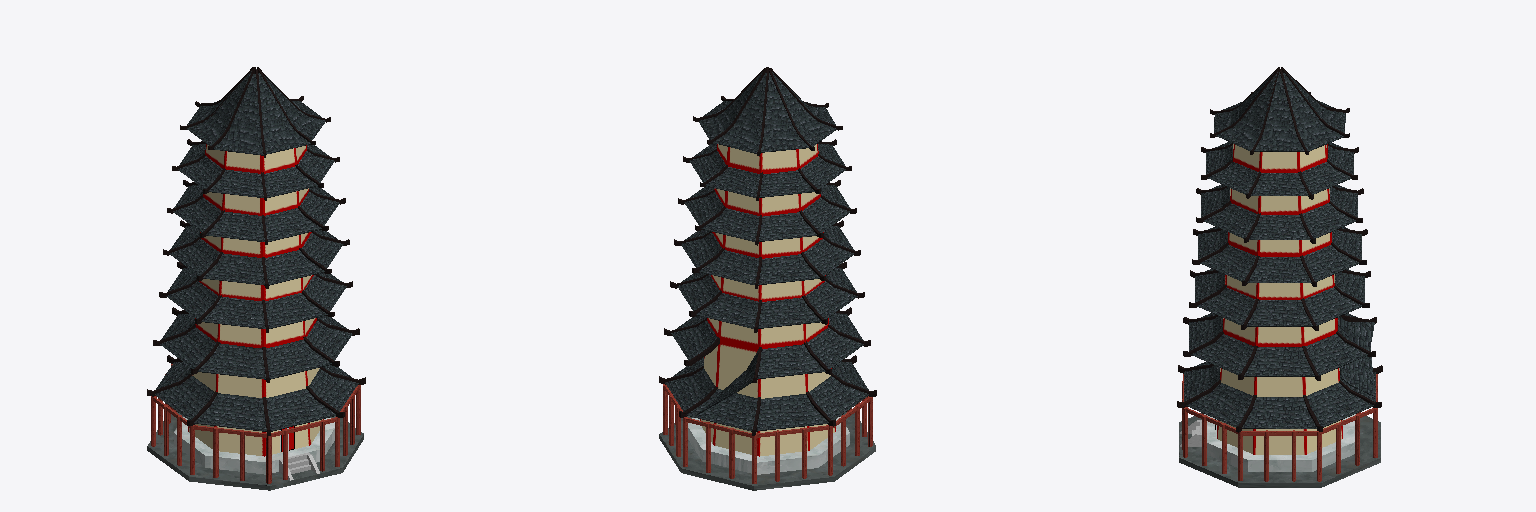
3 renders of one model, left to right at view 1: azimuth 30°, elevation 25°; view 2: azimuth 150°, elevation 25°; view 3: azimuth 270°, elevation 25°, orthographic.
Visible parts, largest first — view 1: Цилиндр_Цилиндр_towercolor, Цилиндр.001_Цилиндр.001_plate, Цилиндр.002_Цилиндр.002_whitePlate, Плоскость.007_Плоскость.009_roof, Плоскость.048_Плоскость.001_highRoff, Плоскость_Плоскость_roof, Плоскость.049_Плоскость.002_highRoff, Плоскость.015_Плоскость.017_roof, Плоскость.008_Плоскость.010_roof, Плоскость.023_Плоскость.025_roof, Плоскость.031_Плоскость.033_roof, Плоскость.006_Плоскость.008_roof (+19 smaller); view 2: Цилиндр_Цилиндр_towercolor, Цилиндр.001_Цилиндр.001_plate, Цилиндр.002_Цилиндр.002_whitePlate, Плоскость.005_Плоскость.007_roof, Плоскость.055_Плоскость.062_highRoff, Плоскость.053_Плоскость.061_highRoff, Плоскость.013_Плоскость.015_roof, Плоскость.004_Плоскость.006_roof, Плоскость.021_Плоскость.023_roof, Плоскость.006_Плоскость.008_roof, Плоскость.020_Плоскость.022_roof, Плоскость.029_Плоскость.031_roof (+19 smaller); view 3: Цилиндр_Цилиндр_towercolor, Цилиндр.001_Цилиндр.001_plate, Цилиндр.002_Цилиндр.002_whitePlate, Плоскость.002_Плоскость.004_roof, Плоскость.051_Плоскость.059_highRoff, Плоскость.010_Плоскость.012_roof, Плоскость.012_Плоскость.014_roof, Плоскость.003_Плоскость.005_roof, Плоскость.001_Плоскость.003_roof, Плоскость.052_Плоскость.060_highRoff, Плоскость.018_Плоскость.020_roof, Плоскость.050_Плоскость.058_highRoff (+23 smaller).
Boxes of the visible parts, <box> form: Цилиндр_Цилиндр_towercolor: <box>188,144,323,456</box>; Цилиндр.001_Цилиндр.001_plate: <box>147,412,363,490</box>; Цилиндр.002_Цилиндр.002_whitePlate: <box>174,417,334,474</box>; Плоскость.007_Плоскость.009_roof: <box>194,393,266,431</box>; Плоскость.048_Плоскость.001_highRoff: <box>213,74,263,155</box>; Плоскость_Плоскость_roof: <box>266,389,336,431</box>; Плоскость.049_Плоскость.002_highRoff: <box>258,73,310,154</box>; Плоскость.015_Плоскость.017_roof: <box>197,343,265,379</box>; Плоскость.008_Плоскость.010_roof: <box>266,339,331,379</box>; Плоскость.023_Плоскость.025_roof: <box>201,297,265,328</box>; Плоскость.031_Плоскость.033_roof: <box>203,253,264,285</box>; Плоскость.006_Плоскость.008_roof: <box>155,376,214,419</box>; Цилиндр_Цилиндр_towercolor: <box>700,144,835,456</box>; Цилиндр.001_Цилиндр.001_plate: <box>659,412,875,490</box>; Цилиндр.002_Цилиндр.002_whitePlate: <box>688,417,849,474</box>; Плоскость.005_Плоскость.007_roof: <box>757,394,828,431</box>; Плоскость.055_Плоскость.062_highRoff: <box>761,73,809,152</box>; Плоскость.053_Плоскость.061_highRoff: <box>713,73,766,153</box>; Плоскость.013_Плоскость.015_roof: <box>757,344,825,378</box>; Плоскость.004_Плоскость.006_roof: <box>686,389,757,431</box>; Плоскость.021_Плоскость.023_roof: <box>758,297,821,328</box>; Плоскость.006_Плоскость.008_roof: <box>809,376,868,419</box>; Плоскость.020_Плоскость.022_roof: <box>696,293,758,328</box>; Плоскость.029_Плоскость.031_roof: <box>758,254,819,284</box>; Цилиндр_Цилиндр_towercolor: <box>1217,144,1342,454</box>; Цилиндр.001_Цилиндр.001_plate: <box>1179,413,1380,487</box>; Цилиндр.002_Цилиндр.002_whitePlate: <box>1204,414,1355,471</box>; Плоскость.002_Плоскость.004_roof: <box>1242,397,1316,428</box>; Плоскость.051_Плоскость.059_highRoff: <box>1254,72,1304,151</box>; Плоскость.010_Плоскость.012_roof: <box>1244,347,1314,376</box>; Плоскость.012_Плоскость.014_roof: <box>1338,316,1375,396</box>; Плоскость.003_Плоскость.005_roof: <box>1307,383,1373,427</box>; Плоскость.001_Плоскость.003_roof: <box>1186,383,1252,426</box>; Плоскость.052_Плоскость.060_highRoff: <box>1283,73,1343,151</box>; Плоскость.018_Плоскость.020_roof: <box>1246,300,1312,326</box>; Плоскость.050_Плоскость.058_highRoff: <box>1216,75,1275,150</box>.
Bounding box in the file's own units: 8.15 × 16.54 × 8.16.
11 materials, 11 textured.